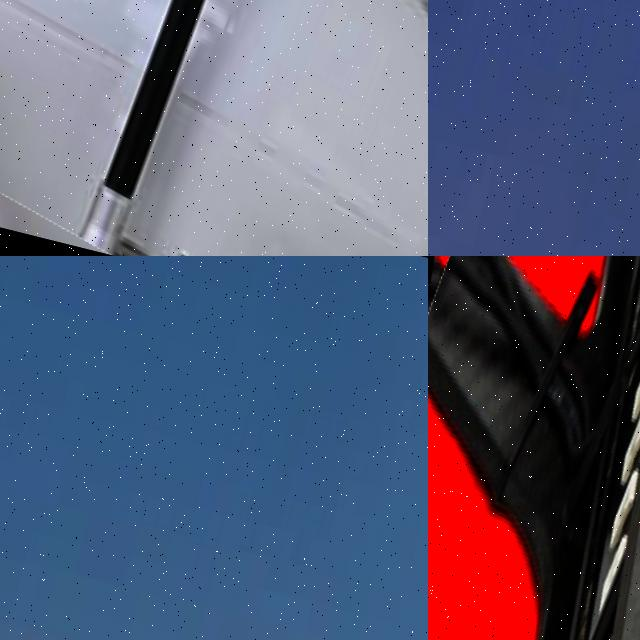drone: (0, 0, 428, 256), (428, 256, 640, 640)
